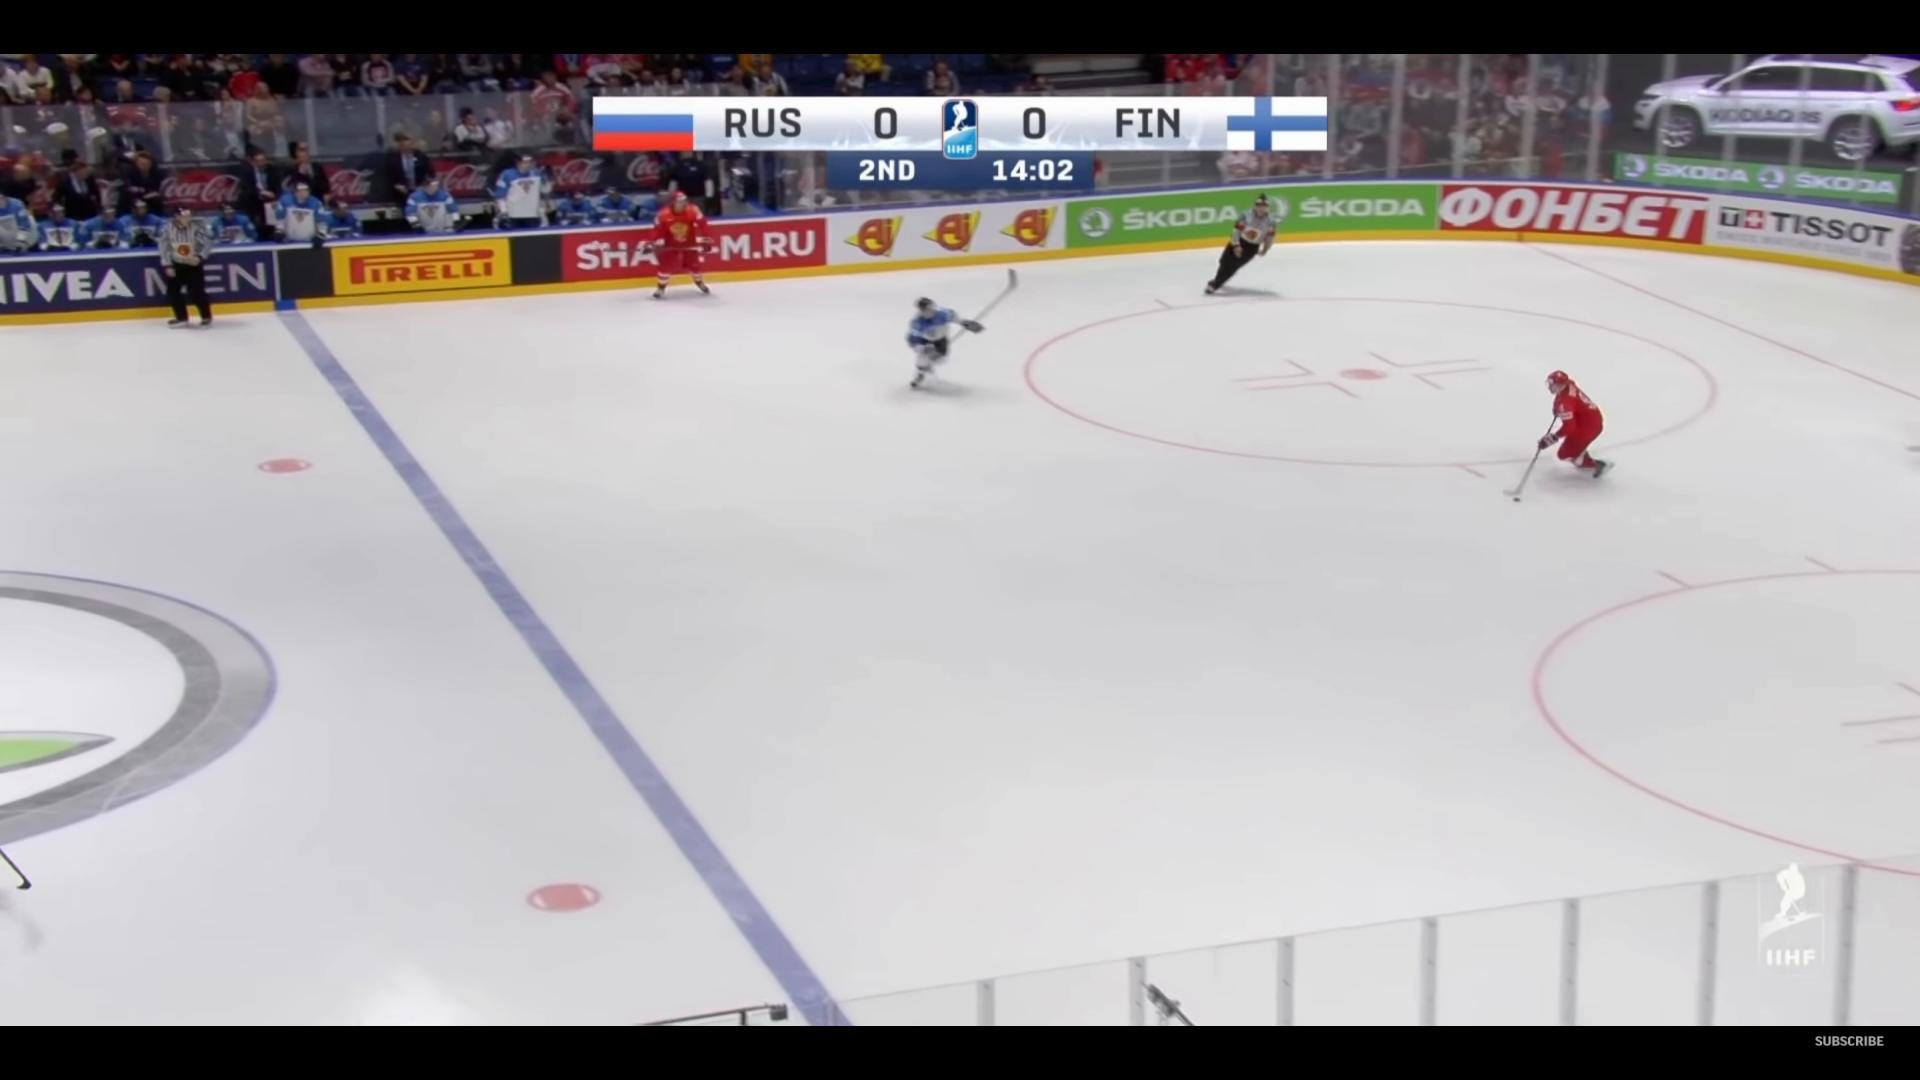puck: (1511, 497, 1520, 502)
